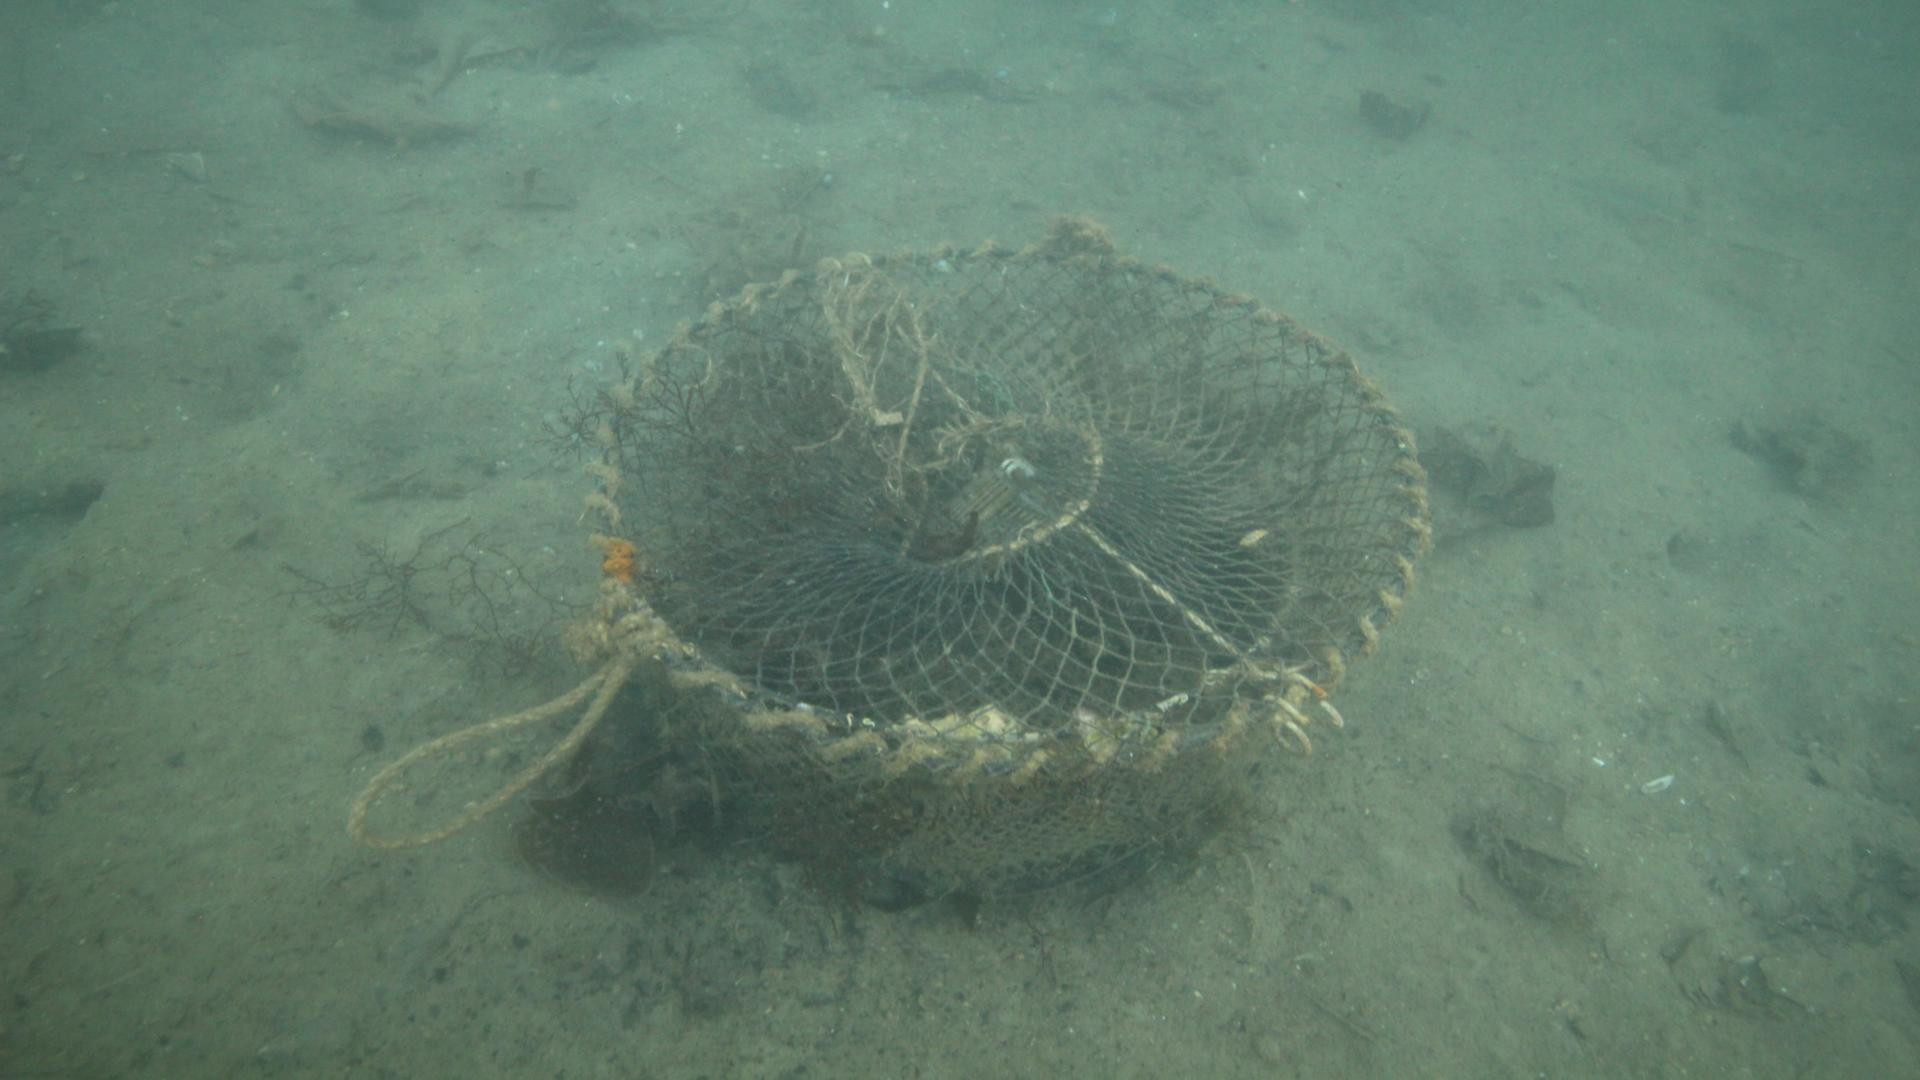circular fish trap: (579, 239, 1429, 895)
rope: (347, 650, 617, 848)
